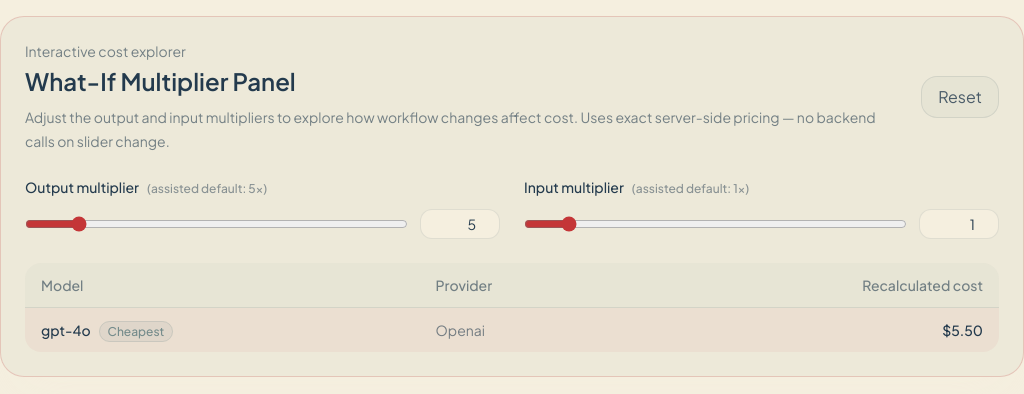
WhatIfPanel — live recalculation on slider/input change › displays the spec example: outputMult=3, inputMult=1, out=$1/M, in=$0.50/M → $3.50
Replace the text in the number field labelled "Output multiplier(assisted default: 5×)" with "3" at {"x": 460, "y": 224}, box top-left (420, 209), bottom-right (500, 239)
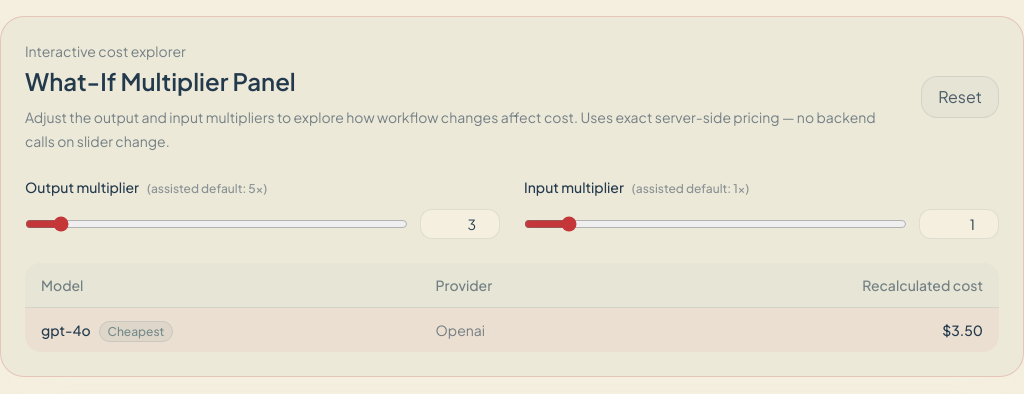
Now the text "$3.50" is shown, box top-left (632, 308), bottom-right (999, 352)
